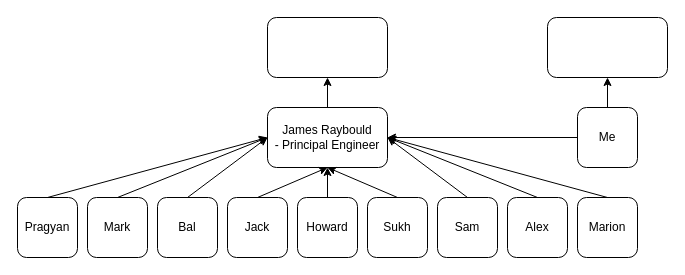
Image size: 685x275. Some labels were removed from this diagram. Here are the shapes that lost their labels. From the top down, the centre of each, then its label:
the point at 327,47: Gordon Whammond - Tech Lead
the point at 607,47: Michelle Baker - Line Manager
